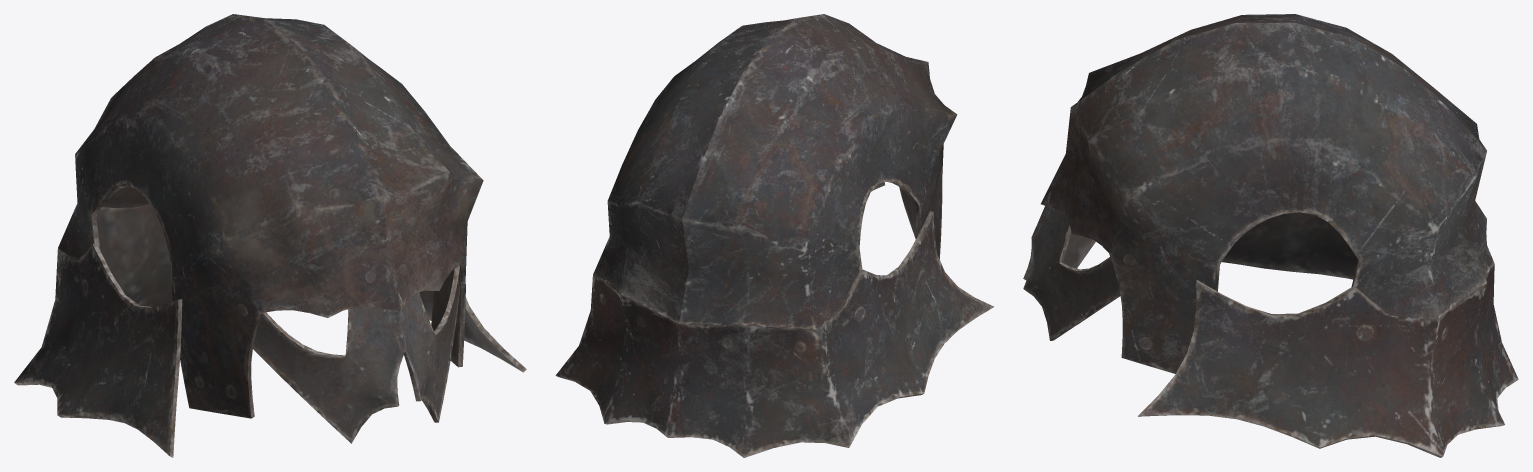
Rendered from sk_dg_uruk_helmet_heavy_e.fbx.
3 views of the same model, side by side, from view 1: azimuth 30°, elevation 25°; view 2: azimuth 150°, elevation 25°; view 3: azimuth 270°, elevation 25° (orthographic). The views are drawn at different scales.
Visible parts, largest first — view 1: sk_dg_uruk_helmet_heavy_e; view 2: sk_dg_uruk_helmet_heavy_e; view 3: sk_dg_uruk_helmet_heavy_e.
Boxes of the visible parts, x1,y1,x2,y2 form: sk_dg_uruk_helmet_heavy_e: [14, 14, 526, 457]; sk_dg_uruk_helmet_heavy_e: [555, 14, 994, 457]; sk_dg_uruk_helmet_heavy_e: [1023, 14, 1518, 457].
Bounding box in the file's own units: 0.2774 × 0.3272 × 0.2671.
1 material, 1 textured.
